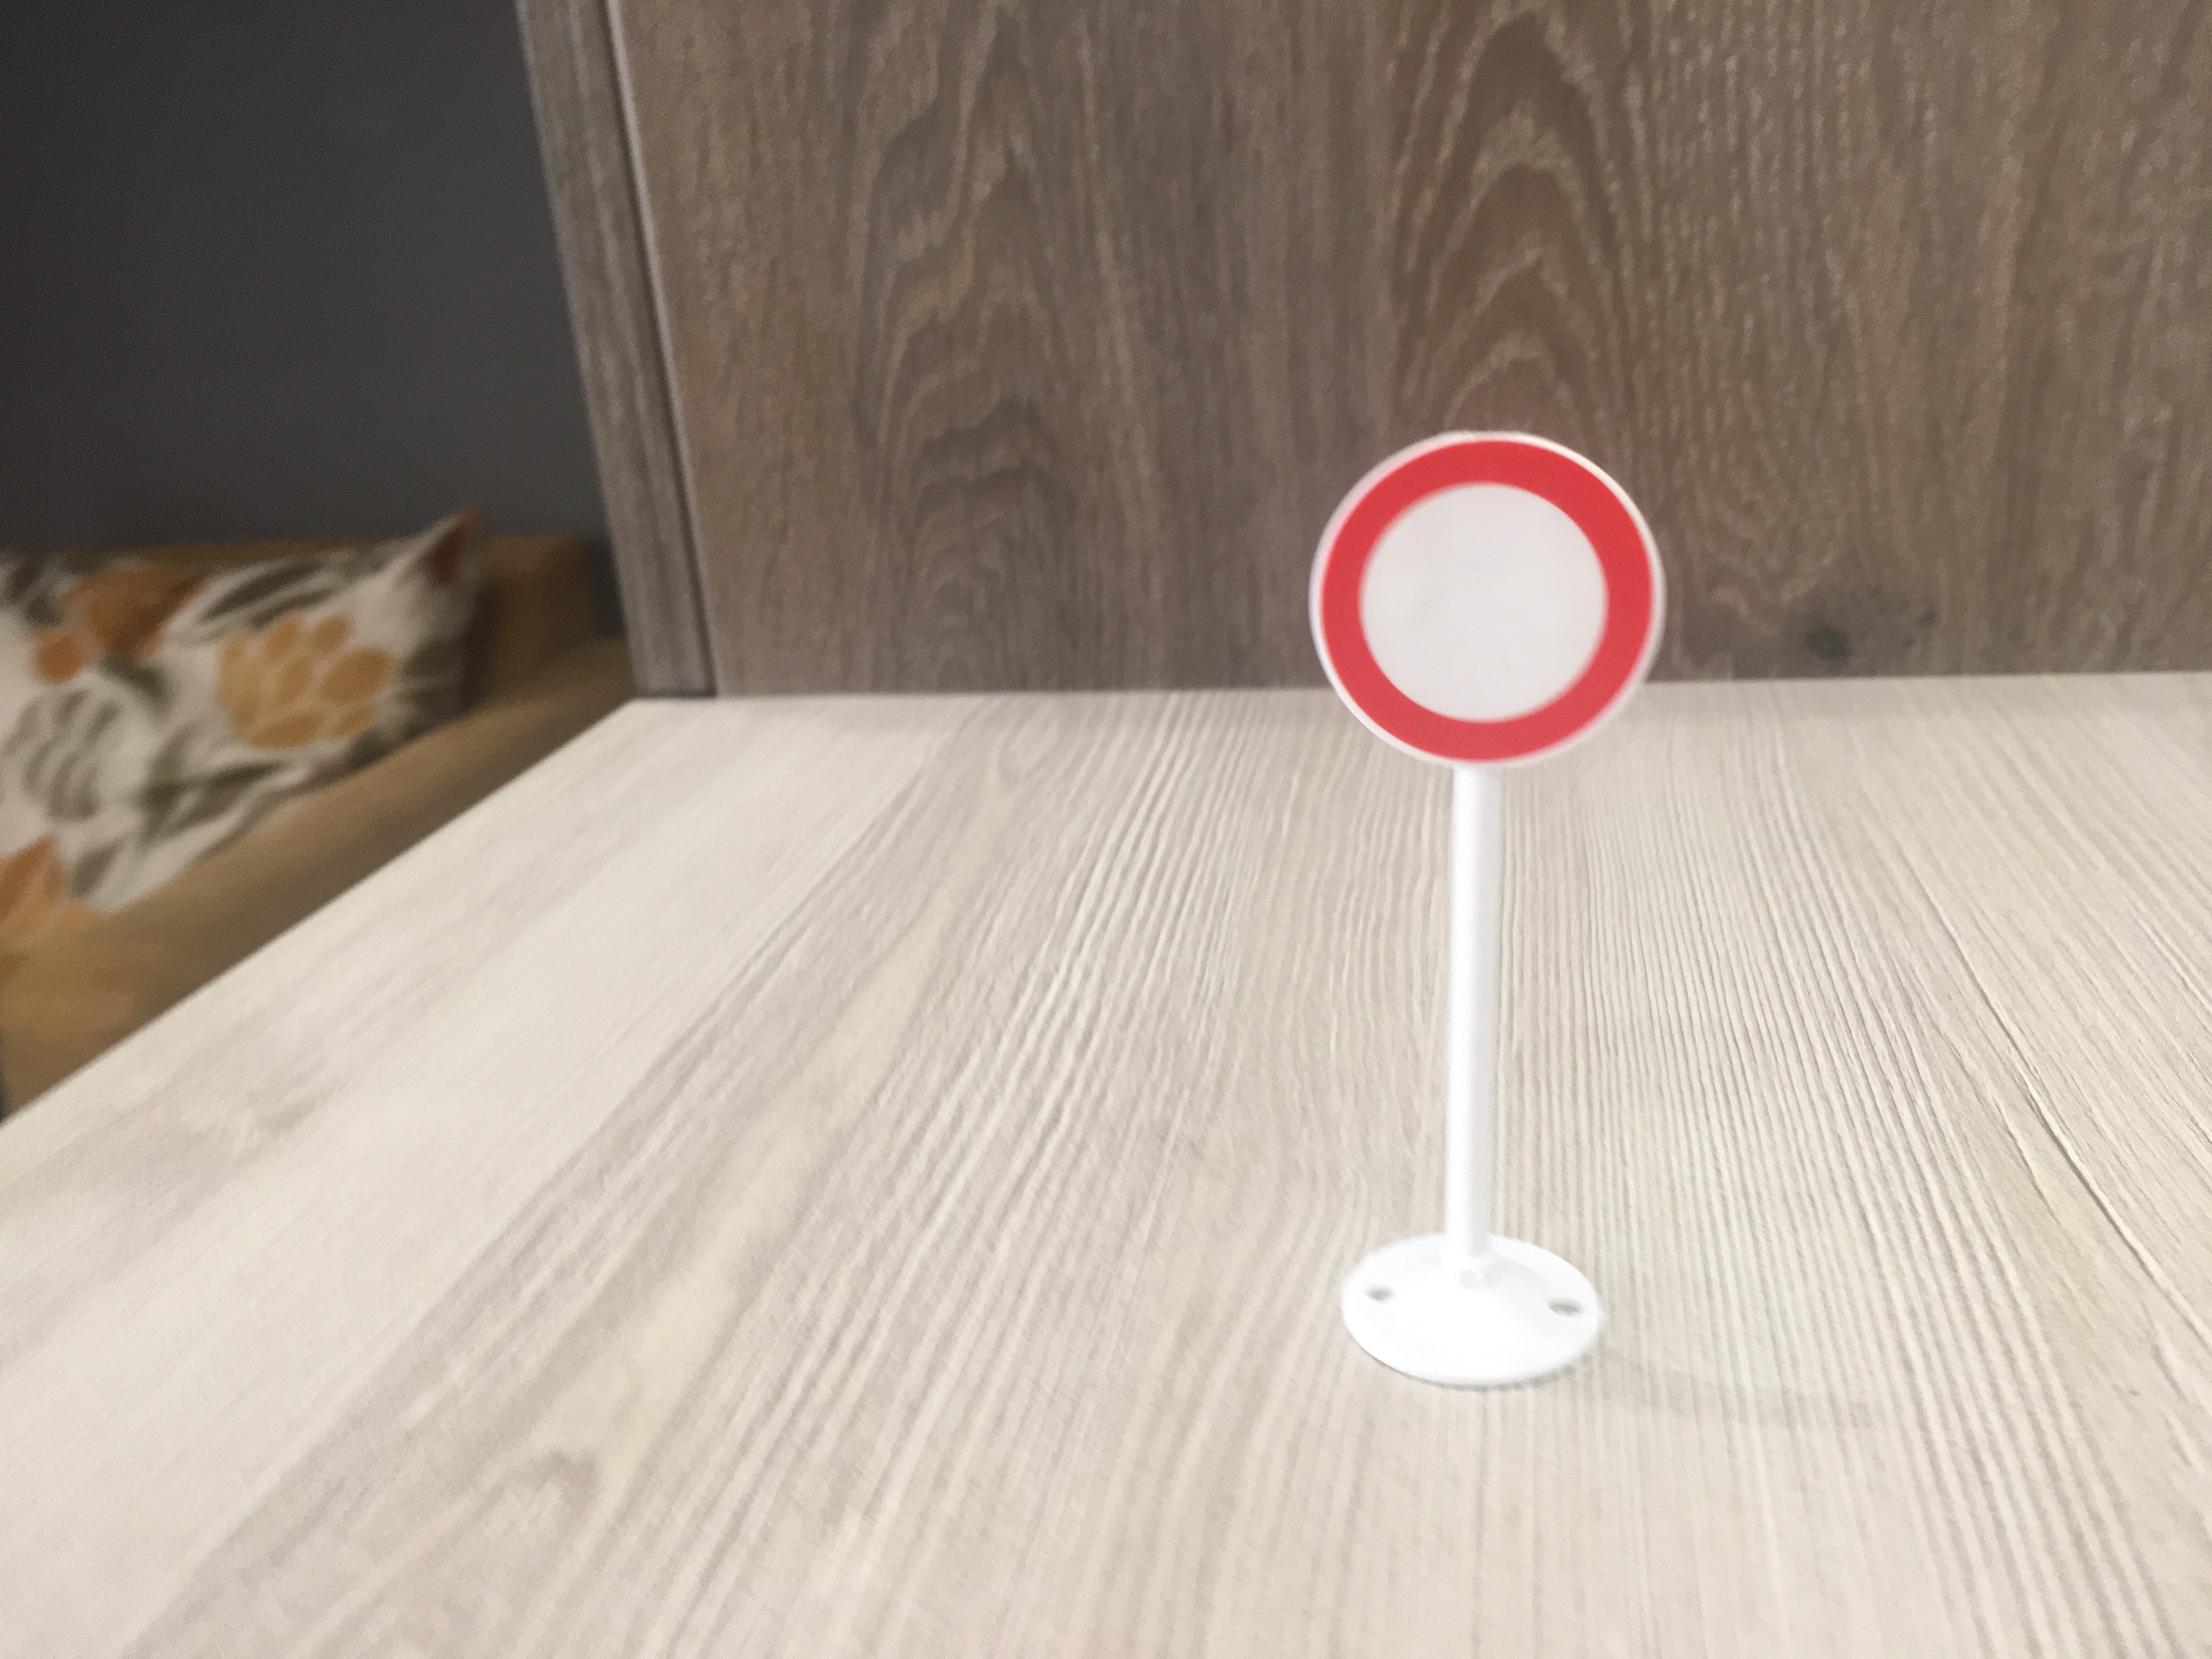noDrive: (1306, 430, 1670, 775)
